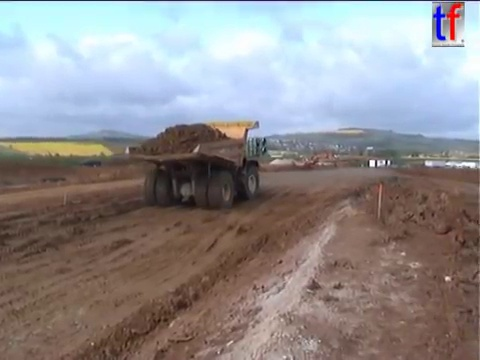truck: (123, 119, 267, 209)
